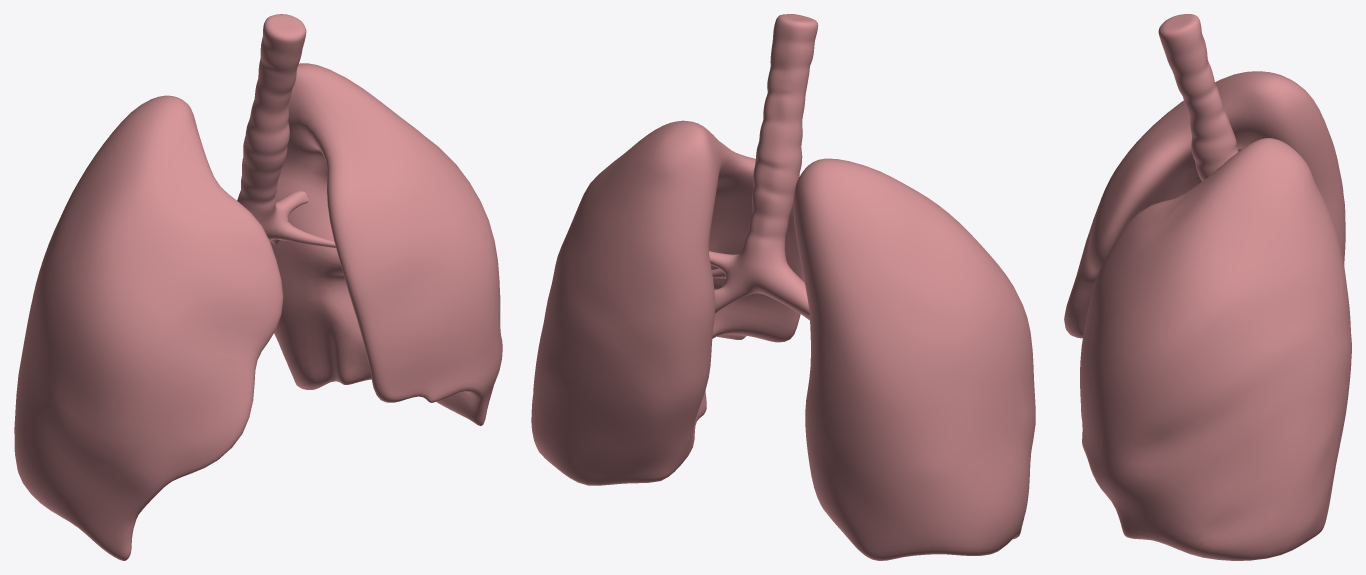
Rendered from lund.glb.
The picture shows the model from 3 angles, left to right: view 1: azimuth 30°, elevation 25°; view 2: azimuth 150°, elevation 25°; view 3: azimuth 270°, elevation 25°; orthographic projection. The views are drawn at different scales.
Visible parts, largest first — view 1: 0; view 2: 0; view 3: 0.
Boxes of the visible parts, x1,y1,x2,y2 form: 0: (14,14,502,560); 0: (531,14,1035,560); 0: (1064,14,1351,560).
Bounding box in the file's own units: 0.4734 × 0.481 × 0.2591.
